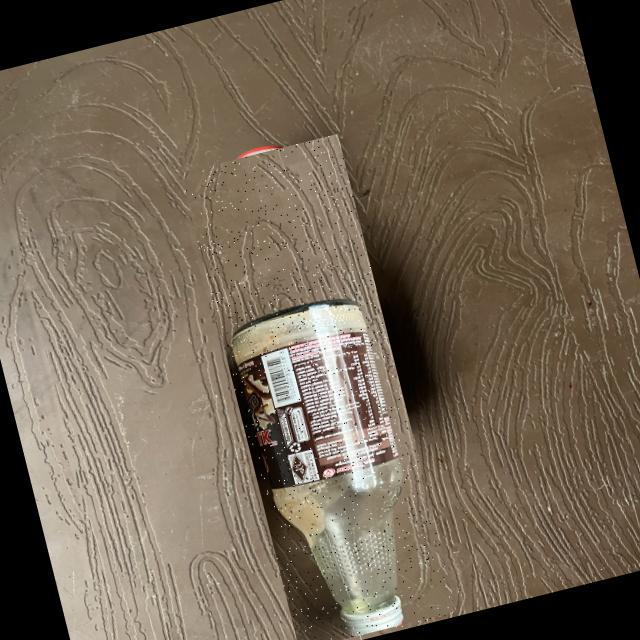Glass_Bottle: (179, 133, 456, 640)
